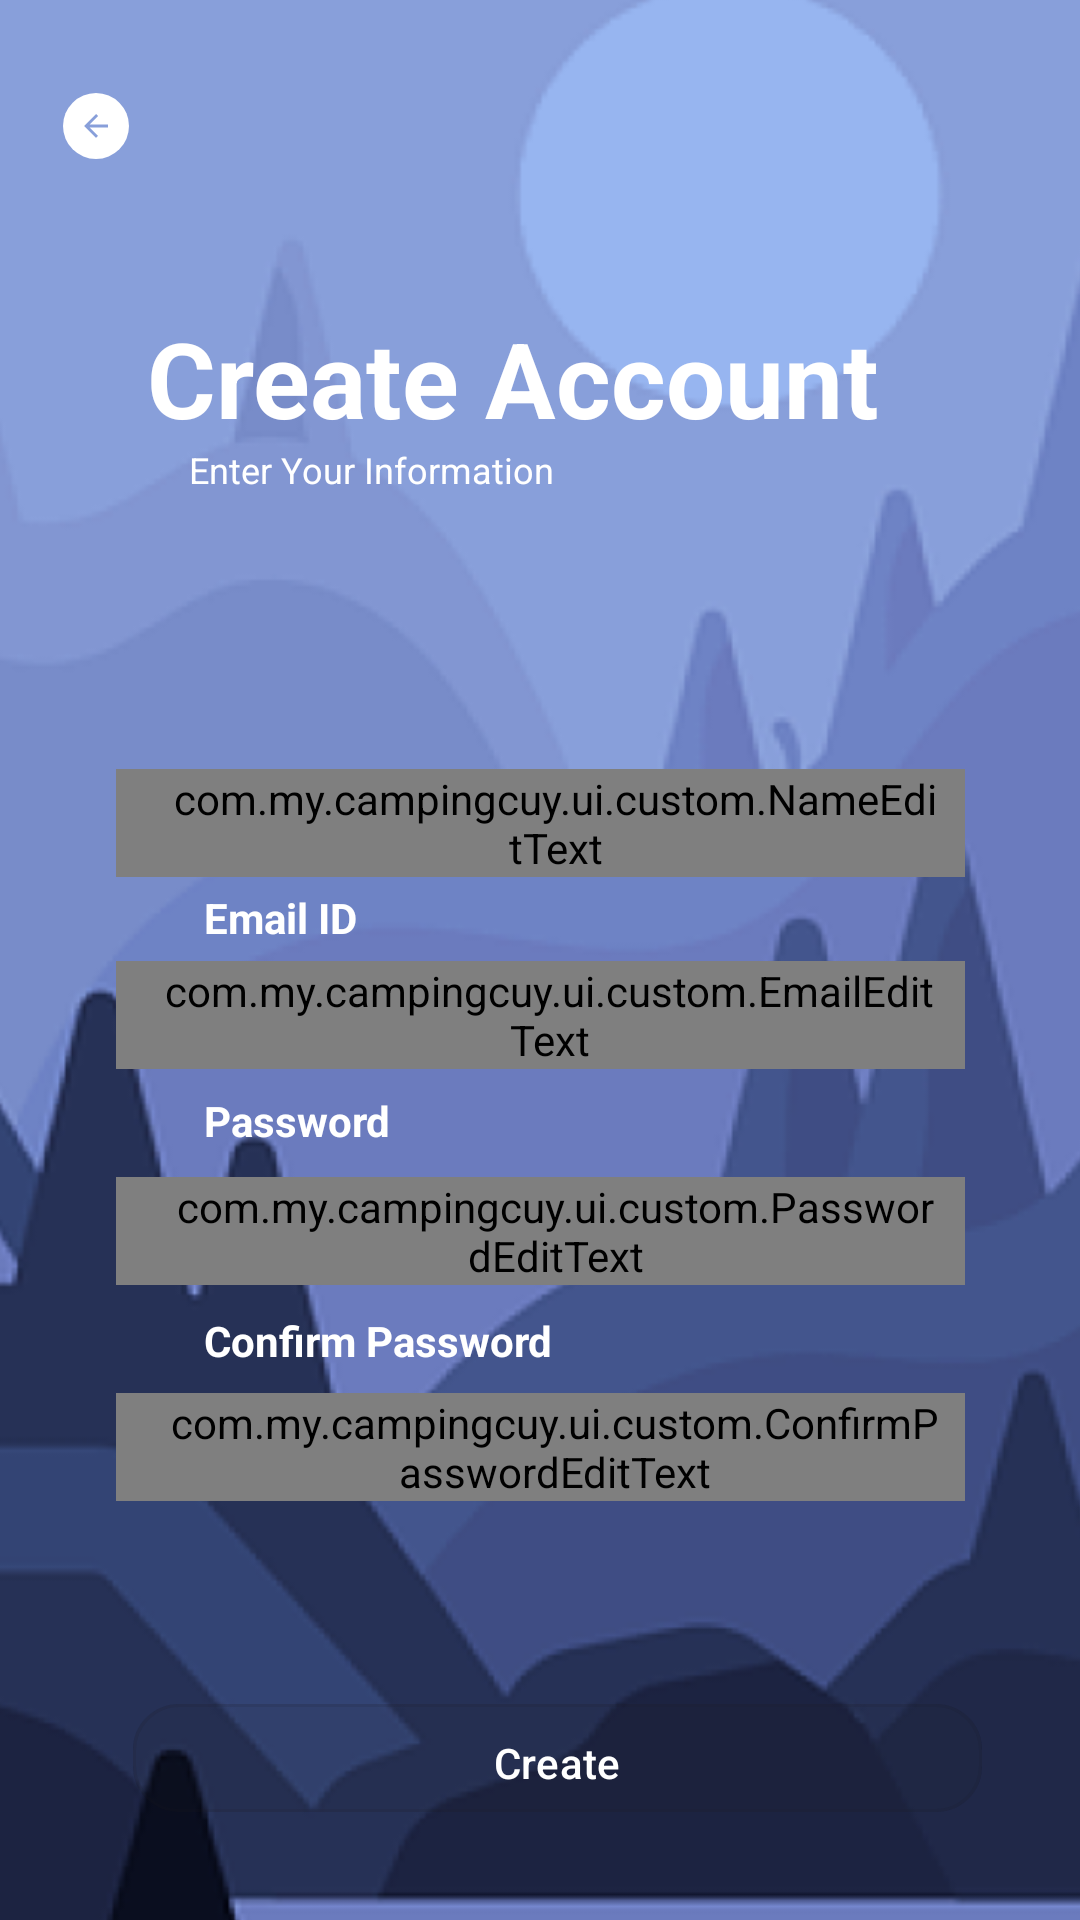

Icon click points for this 1080px x 1920px phone screenshot, format point (x, y):
arrow back: point (96, 126)
